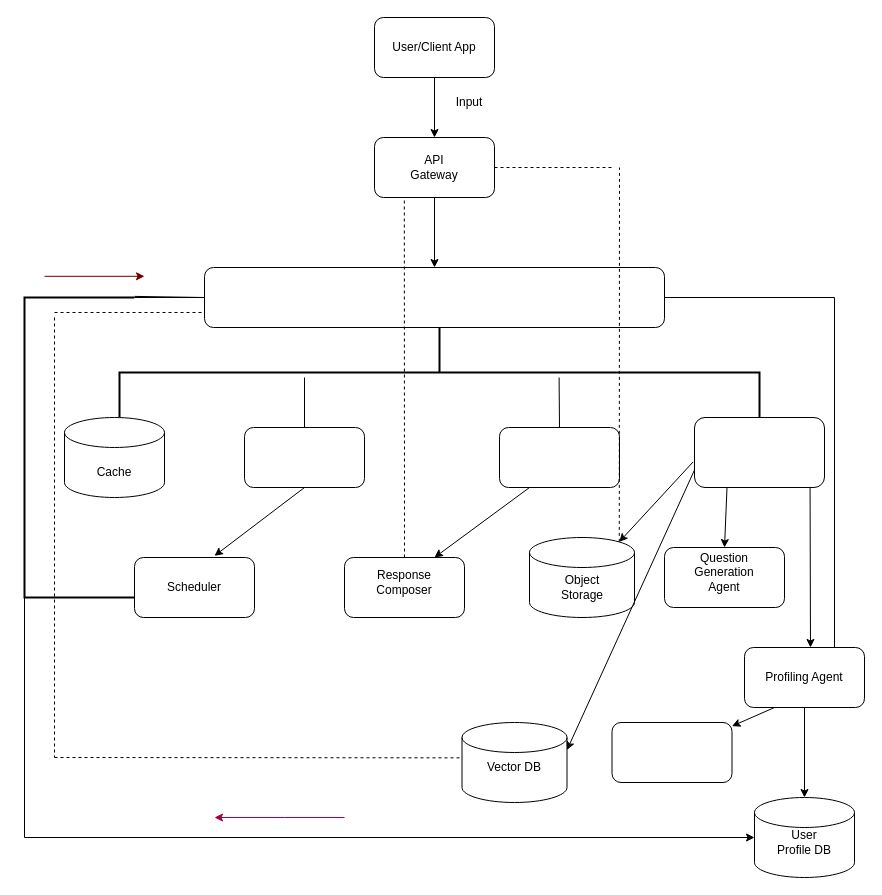
Image size: 882x895. Some labels were removed from this diagram. Here are the shapes that lost their labels. From the top down, the box of each, then its label:
(204, 266, 664, 328): LLM Orchestrator
(244, 426, 364, 488): Proactive Agent
(498, 426, 620, 488): Conversation Agent
(694, 416, 824, 488): Context Analysis Agent
(611, 722, 732, 782): Insight Agent
